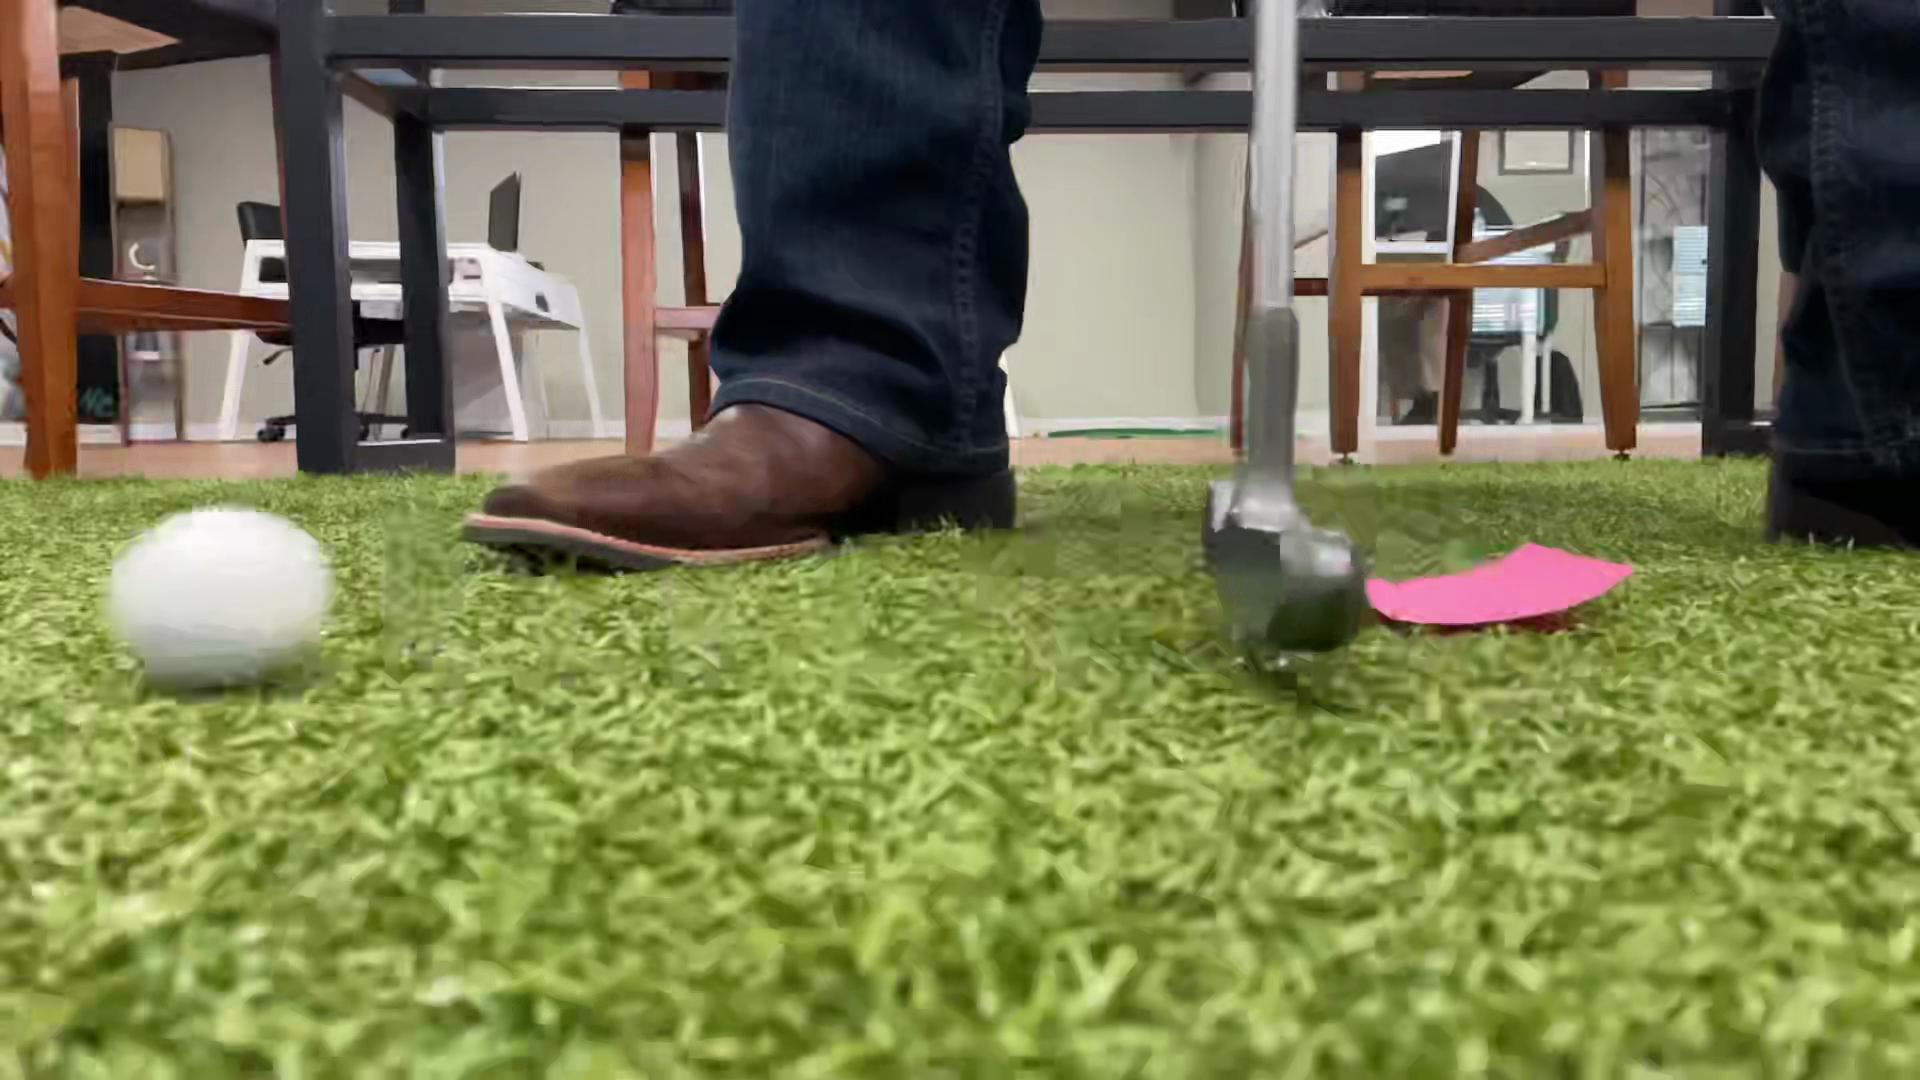golfball: (107, 509, 330, 691)
